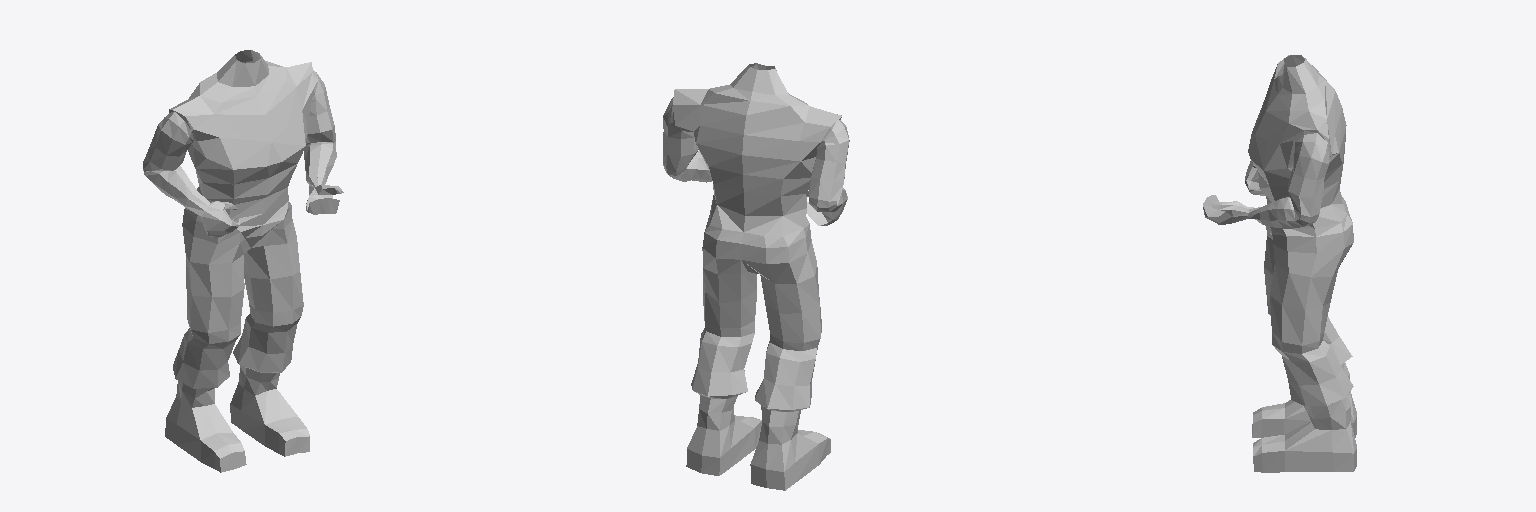
File: spos_body.obj
3 renders of one model, left to right at view 1: azimuth 30°, elevation 25°; view 2: azimuth 150°, elevation 25°; view 3: azimuth 270°, elevation 25°, orthographic.
Visible parts, largest first — view 1: Group; view 2: Group; view 3: Group.
Boxes of the visible parts, x1=… form: Group: x1=143, y1=50, x2=343, y2=472; Group: x1=663, y1=63, x2=849, y2=490; Group: x1=1203, y1=55, x2=1356, y2=472.
Size of the model in its own units: 25.06 by 51.61 by 18.46.